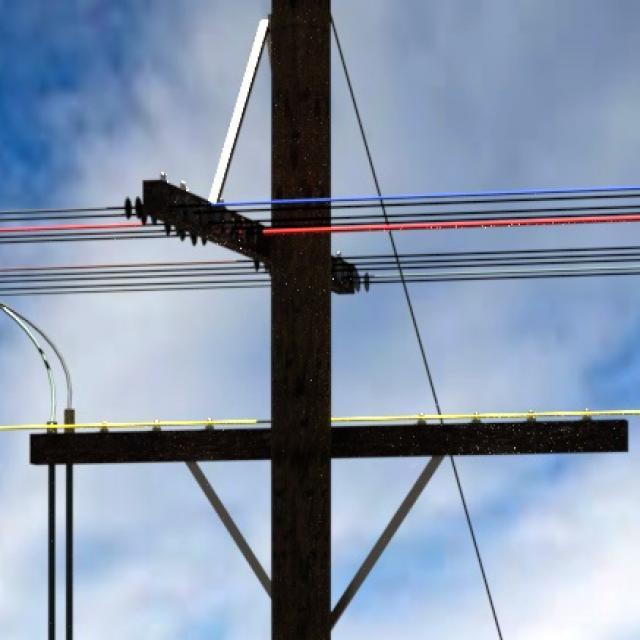crossarm: (28, 420, 628, 468), (144, 180, 360, 293)
pole: (258, 0, 334, 640)
